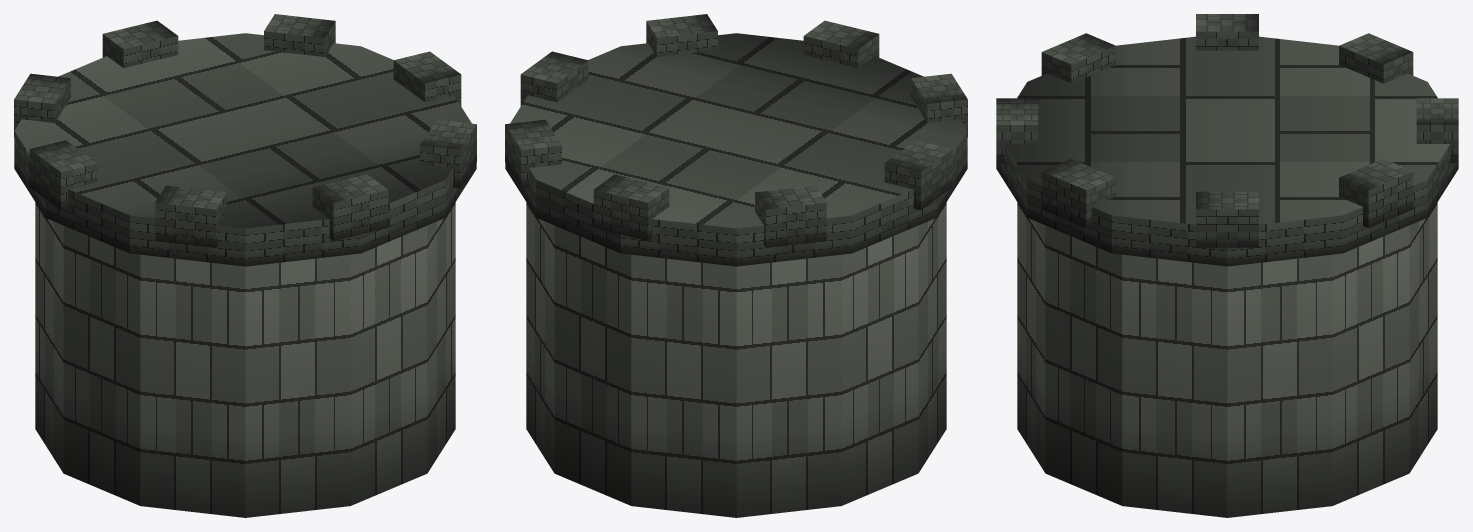
File: well.gltf
3 renders of one model, left to right at view 1: azimuth 30°, elevation 25°; view 2: azimuth 150°, elevation 25°; view 3: azimuth 270°, elevation 25°, orthographic.
Visible parts, largest first — view 1: well; view 2: well; view 3: well.
Boxes of the visible parts, box(x1,y1,x2,y2) form: well: box(14, 14, 476, 517); well: box(505, 14, 967, 517); well: box(996, 14, 1458, 517).
Bounding box in the file's own units: 0.66 × 0.5 × 0.66.
1 material, 1 textured.
